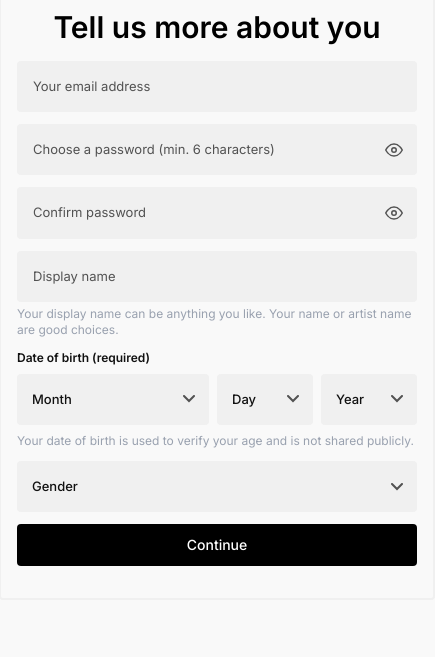
Test case: Registration Date Validation › rejects February 30th in a non-leap year
Select "February" in the 1st dropdown named "month". click: (113, 399)
box: [17, 374, 209, 425]
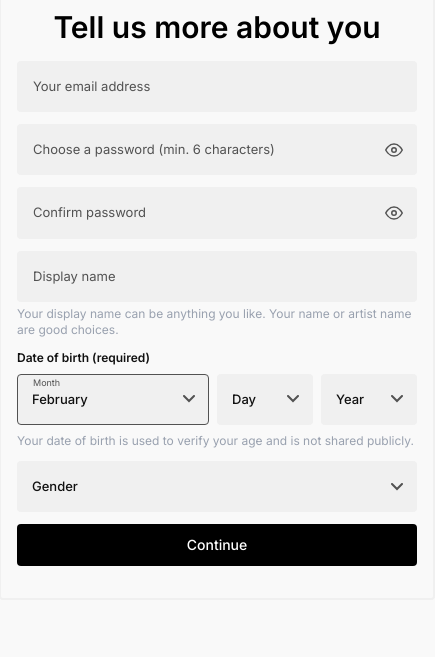
Select "30" in the 1st dropdown named "day". click: (265, 399)
box: [217, 374, 313, 425]
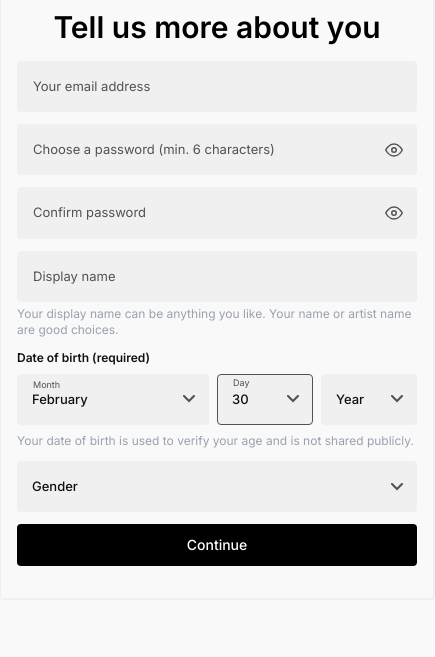
Select "2023" in the dropdown named "year" next to "Day". click: (369, 399)
box: [321, 374, 417, 425]
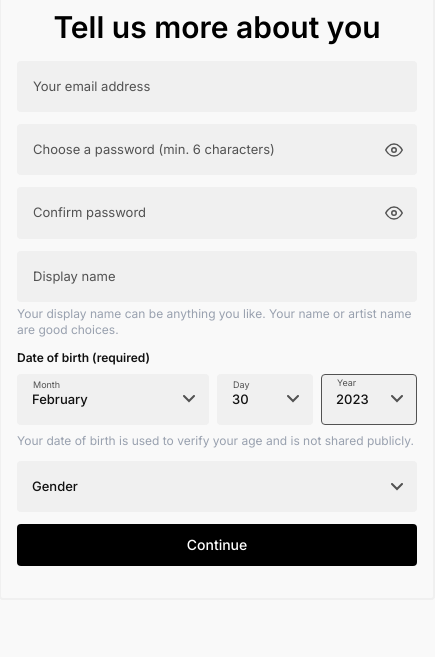
Click the button "Continue". click: (217, 545)
box: [17, 524, 417, 566]
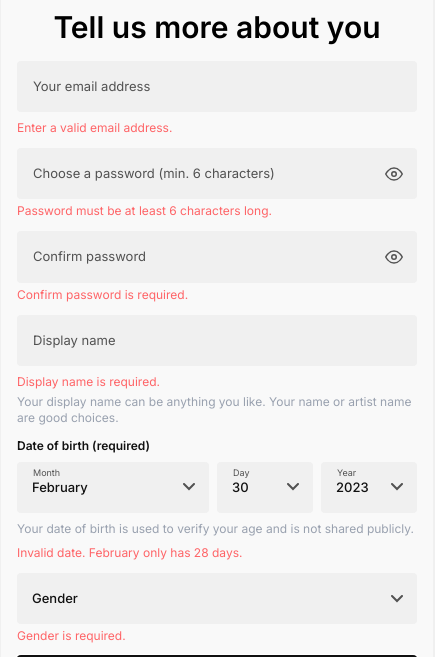
Expected: the text "Invalid date. February only has 28 days." is shown, [17, 545, 242, 560]
